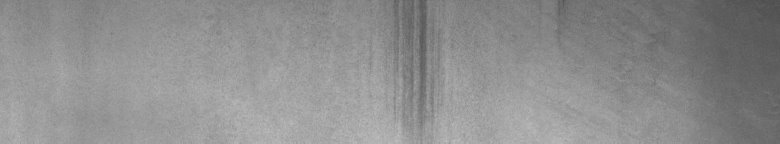ka: (394, 4, 439, 127)
